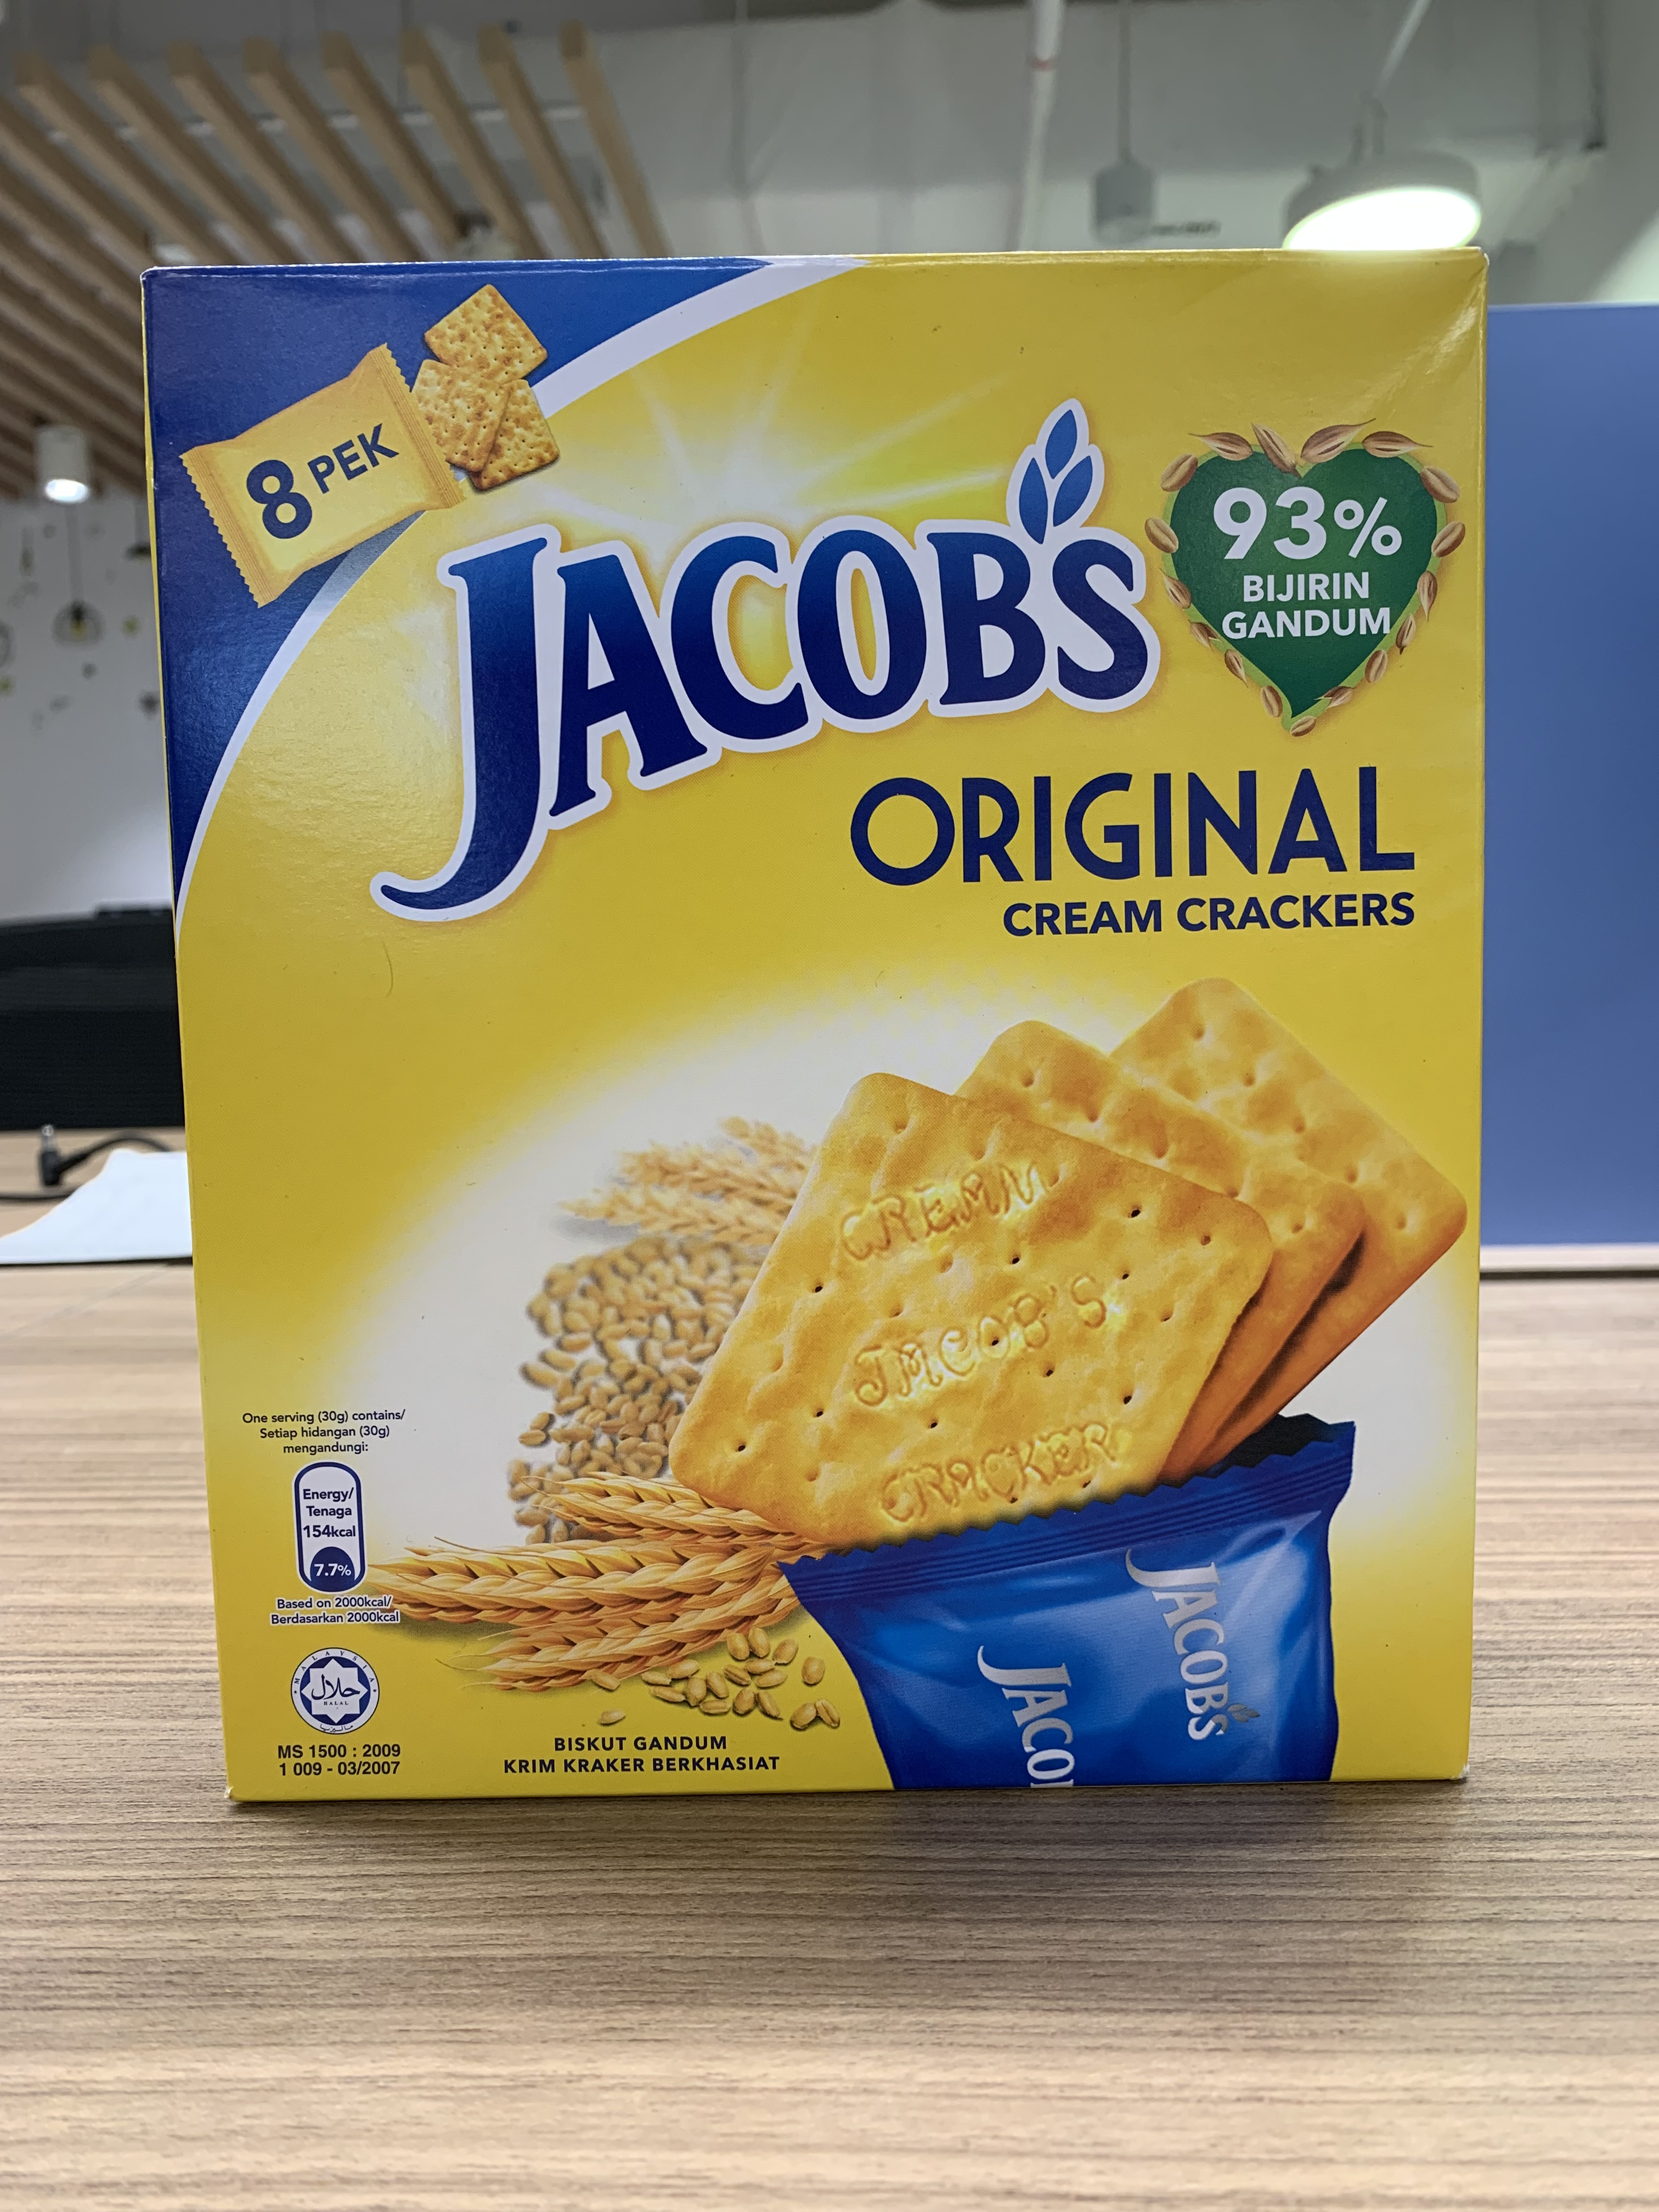halal: (291, 1649, 378, 1733)
